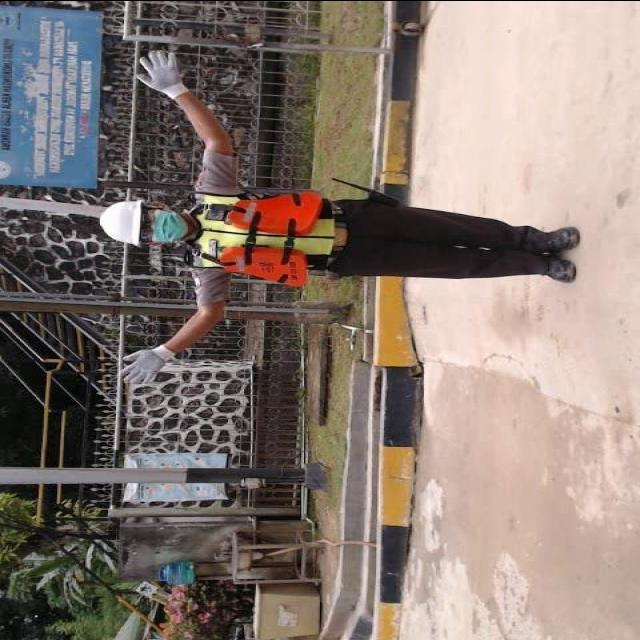helmet: (97, 197, 149, 250)
jacket: (189, 180, 331, 294)
